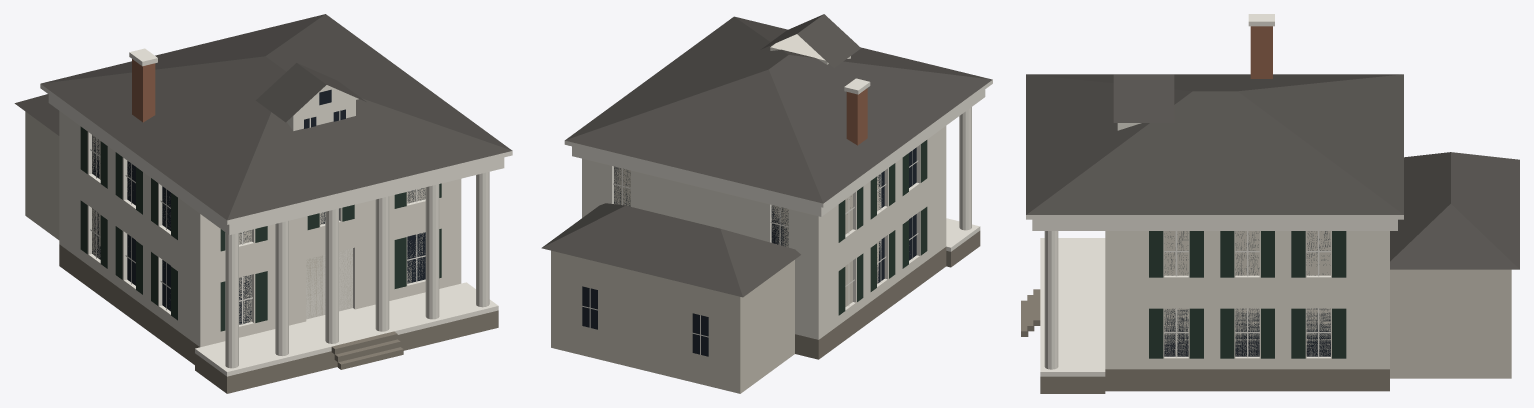
The model's file is pike-fletcher-terry-house.glb.
3 renders of one model, left to right at view 1: azimuth 30°, elevation 25°; view 2: azimuth 150°, elevation 25°; view 3: azimuth 270°, elevation 25°, orthographic. The views are drawn at different scales.
Visible parts, largest first — view 1: pike_roof, pike_brick, pike_trim, pike_wood, pike_base, pike_brick2, pike_shutter, pike_glass, pike_door, pike_chim, pike_sash; view 2: pike_roof, pike_brick2, pike_brick, pike_trim, pike_shutter, pike_base, pike_glass, pike_wood, pike_chim, pike_sash; view 3: pike_roof, pike_brick, pike_brick2, pike_trim, pike_shutter, pike_base, pike_glass, pike_wood, pike_chim, pike_sash.
Boxes of the visible parts, x1=… form: pike_roof: x1=14, y1=14, x2=512, y2=220; pike_brick: x1=59, y1=111, x2=461, y2=347; pike_trim: x1=40, y1=48, x2=512, y2=376; pike_wood: x1=225, y1=85, x2=489, y2=368; pike_base: x1=59, y1=244, x2=498, y2=393; pike_brick2: x1=25, y1=111, x2=425, y2=324; pike_shutter: x1=80, y1=126, x2=441, y2=331; pike_glass: x1=92, y1=89, x2=425, y2=324; pike_door: x1=306, y1=248, x2=352, y2=319; pike_chim: x1=132, y1=59, x2=155, y2=122; pike_sash: x1=90, y1=111, x2=425, y2=324; pike_roof: x1=541, y1=14, x2=992, y2=297; pike_brick2: x1=551, y1=166, x2=881, y2=393; pike_brick: x1=582, y1=126, x2=946, y2=339; pike_trim: x1=564, y1=78, x2=992, y2=310; pike_shutter: x1=838, y1=140, x2=927, y2=315; pike_base: x1=795, y1=231, x2=980, y2=359; pike_glass: x1=582, y1=147, x2=916, y2=356; pike_wood: x1=770, y1=34, x2=971, y2=230; pike_chim: x1=846, y1=88, x2=867, y2=145; pike_sash: x1=582, y1=150, x2=918, y2=354; pike_roof: x1=1026, y1=74, x2=1519, y2=269; pike_brick: x1=1105, y1=231, x2=1389, y2=369; pike_brick2: x1=1164, y1=231, x2=1511, y2=378; pike_trim: x1=1026, y1=14, x2=1403, y2=376; pike_shutter: x1=1149, y1=231, x2=1346, y2=358; pike_base: x1=1021, y1=289, x2=1389, y2=393; pike_glass: x1=1164, y1=231, x2=1330, y2=356; pike_wood: x1=1044, y1=123, x2=1141, y2=369; pike_chim: x1=1250, y1=26, x2=1272, y2=78; pike_sash: x1=1164, y1=231, x2=1330, y2=357.
Size of the model in its own units: 16.4 by 13.85 by 24.55.
